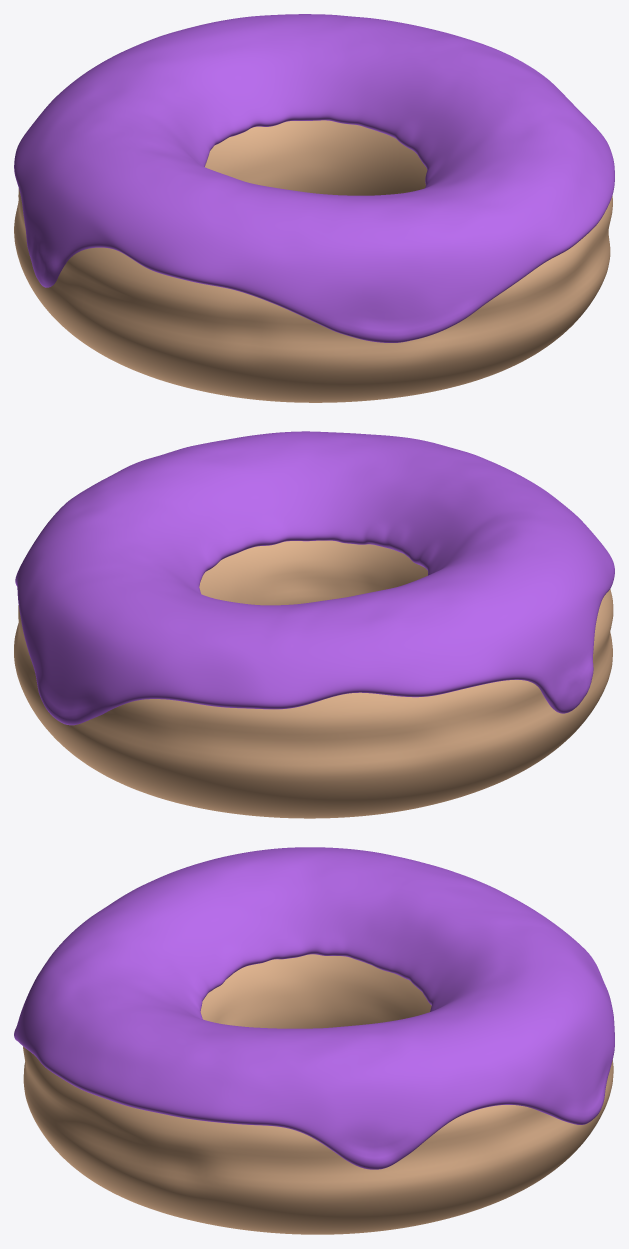
File: Donut.glb
The picture shows the model from 3 angles, top to bottom: view 1: azimuth 30°, elevation 25°; view 2: azimuth 150°, elevation 25°; view 3: azimuth 270°, elevation 25°; orthographic projection. The views are drawn at different scales.
Parts seen in each view (by area): view 1: Icing, Donut; view 2: Icing, Donut; view 3: Icing, Donut.
Boxes of the visible parts, box(x1,y1,x2,y2) form: Icing: box(14, 14, 614, 342); Donut: box(14, 120, 612, 402); Icing: box(15, 431, 614, 725); Donut: box(14, 540, 613, 818); Icing: box(14, 847, 614, 1169); Donut: box(23, 954, 613, 1234).
Size of what is drawn, in the model's own units: 0.1512 by 0.0563 by 0.1523.
